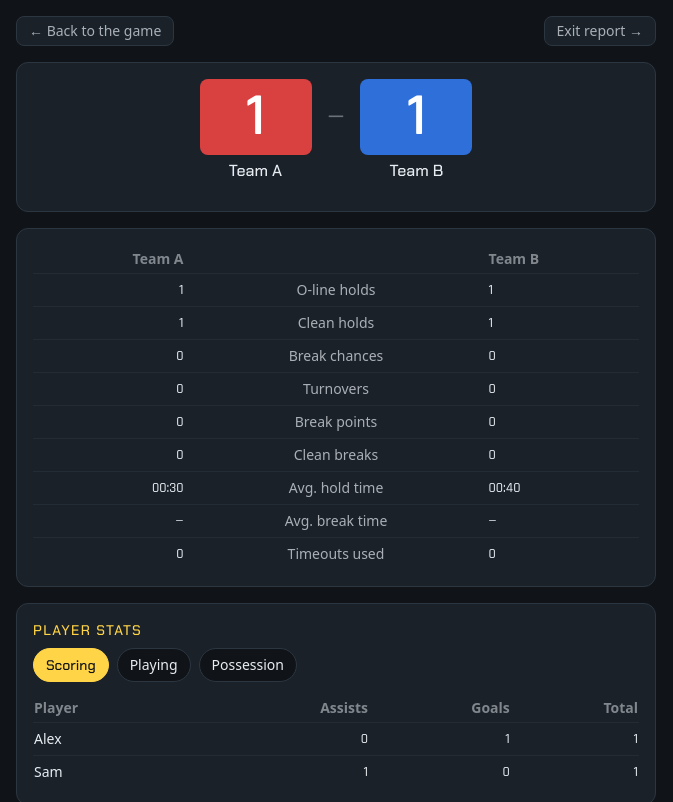
the player-stat views › switches to the playing columns
Click the button "Playing". click: (154, 665)
box: [117,648,191,682]
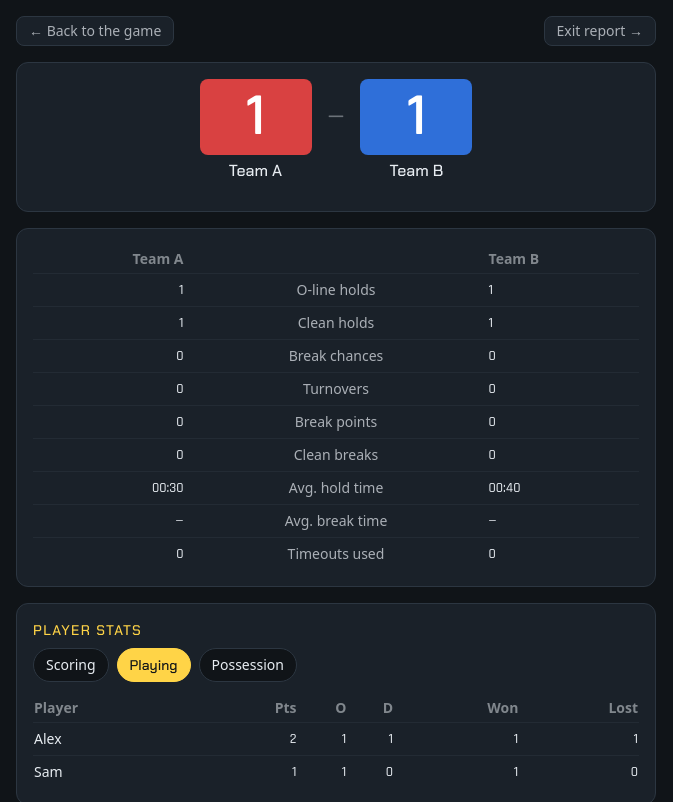
Now the column heading "Pts" is shown, box [207,694,298,722]
Now the column heading "Won" is shown, box [394,694,519,722]
Now the column heading "Lost" is shown, box [519,694,639,722]
